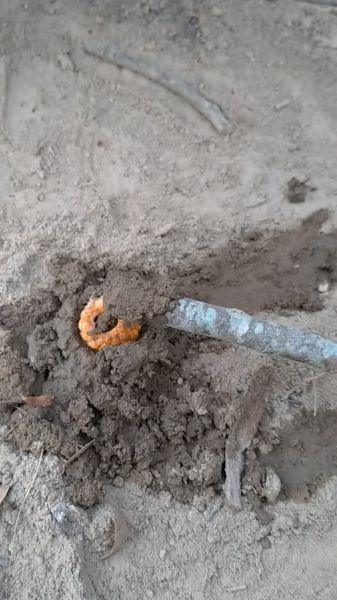eggs: (75, 291, 148, 352)
